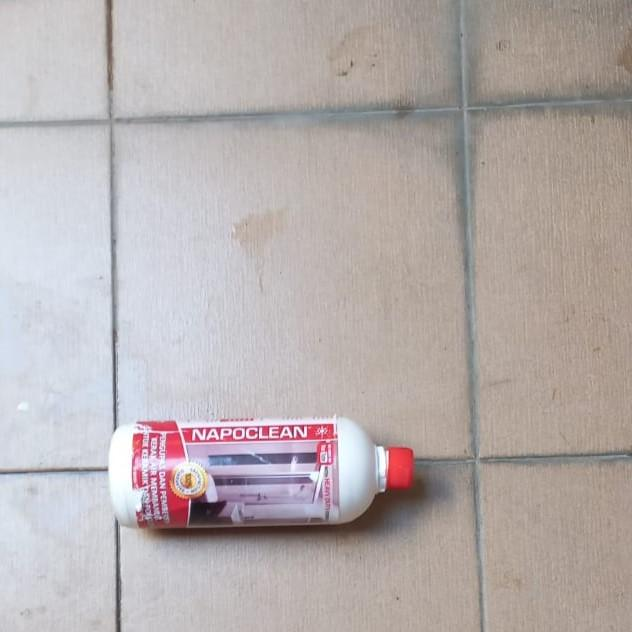Plastik: (108, 413, 416, 529)
